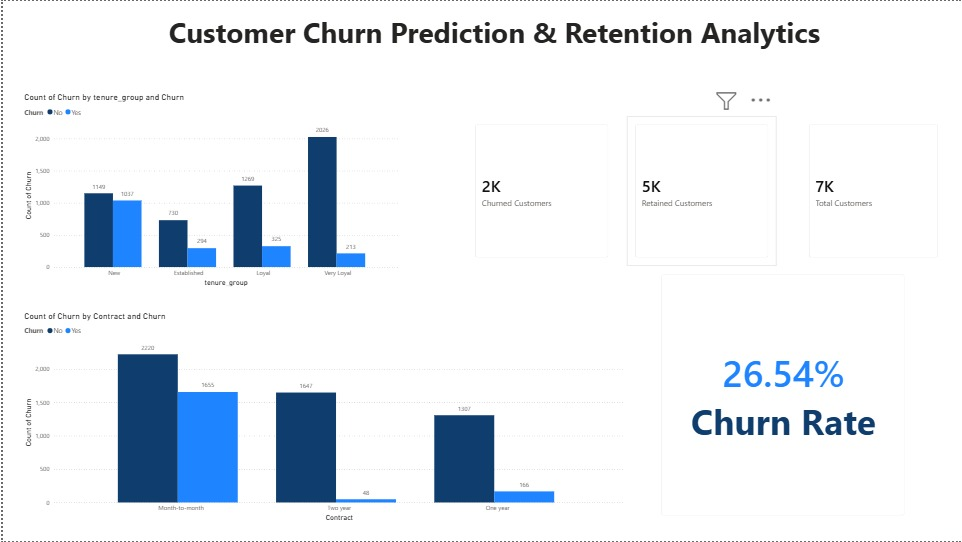

What the dashboard file says about the page in this screenshot:
{"tool":"powerbi","page":{"name":"Churn Overview","canvas":[1920,1080],"ordinal":0},"visuals":[{"type":"clusteredColumnChart","fields":{"Category":["churn_cleaned_for_powerbi.Contract"],"Y":["CountNonNull(churn_cleaned_for_powerbi.Churn)"],"Series":["churn_cleaned_for_powerbi.Churn"]},"box":[36.7,620,1210,426.7],"z":0},{"type":"clusteredColumnChart","fields":{"Category":["churn_cleaned_for_powerbi.tenure_group"],"Y":["CountNonNull(churn_cleaned_for_powerbi.Churn)"],"Series":["churn_cleaned_for_powerbi.Churn"]},"box":[36.7,183.3,756.7,393.3],"z":1000},{"type":"cardVisual","fields":{"Data":["churn_cleaned_for_powerbi.Churn Rate"]},"box":[1300,530,520,516.7],"z":2000},{"type":"textbox","box":[0,17.3,1919.2,86.3],"z":4000},{"type":"cardVisual","fields":{"Data":["churn_cleaned_for_powerbi.Total Customers"]},"box":[1595,230,292.5,300],"z":5000},{"type":"cardVisual","fields":{"Data":["churn_cleaned_for_powerbi.Churned Customers"]},"box":[927.5,230,300,300],"z":6000},{"type":"cardVisual","fields":{"Data":["churn_cleaned_for_powerbi.Retained Customers"]},"box":[1247.5,230,300,300],"z":7000}]}

Visuals, with their boxes in screenshot pixels (x1, y1, x2, y2), scaled from the page's 1920x1080 canvas onto the 962x542 screenshot:
clusteredColumnChart - churn_cleaned_for_powerbi.Contract x CountNonNull(churn_cleaned_for_powerbi.Churn): left=18, top=311, right=625, bottom=525
clusteredColumnChart - churn_cleaned_for_powerbi.tenure_group x CountNonNull(churn_cleaned_for_powerbi.Churn): left=18, top=92, right=398, bottom=289
cardVisual - churn_cleaned_for_powerbi.Churn Rate: left=651, top=266, right=912, bottom=525
textbox: left=0, top=9, right=961, bottom=52
cardVisual - churn_cleaned_for_powerbi.Total Customers: left=799, top=115, right=946, bottom=266
cardVisual - churn_cleaned_for_powerbi.Churned Customers: left=465, top=115, right=615, bottom=266
cardVisual - churn_cleaned_for_powerbi.Retained Customers: left=625, top=115, right=775, bottom=266
